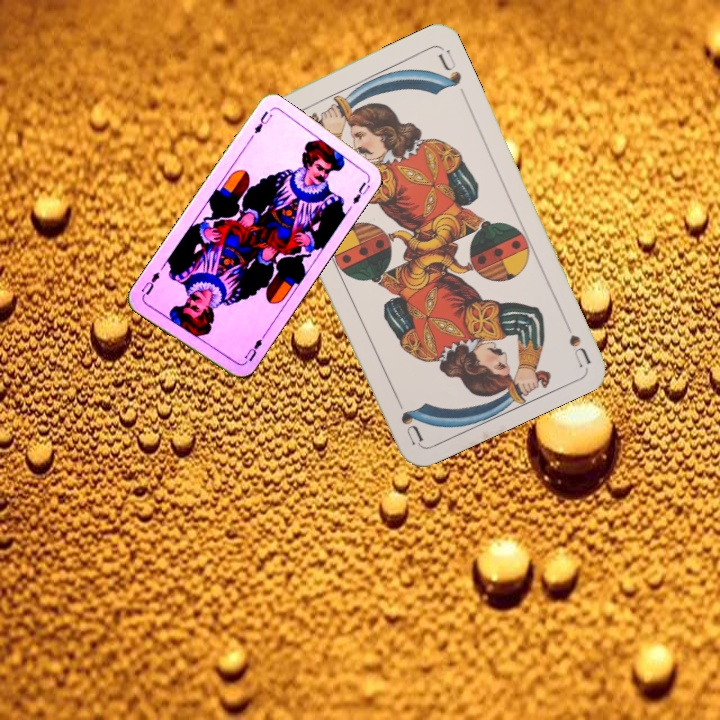EU: (239, 331, 268, 367), (250, 107, 275, 137)
SU: (565, 330, 592, 368)
